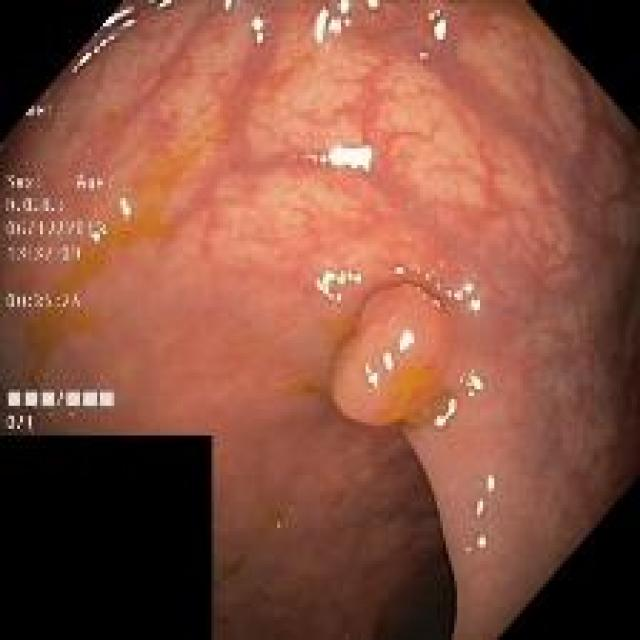Polyps: (332, 284, 451, 426)
